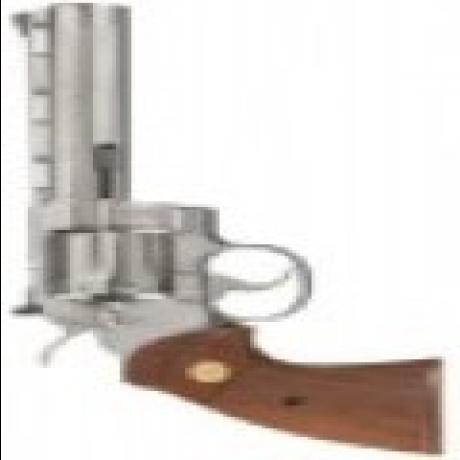weapon: (4, 0, 445, 459)
